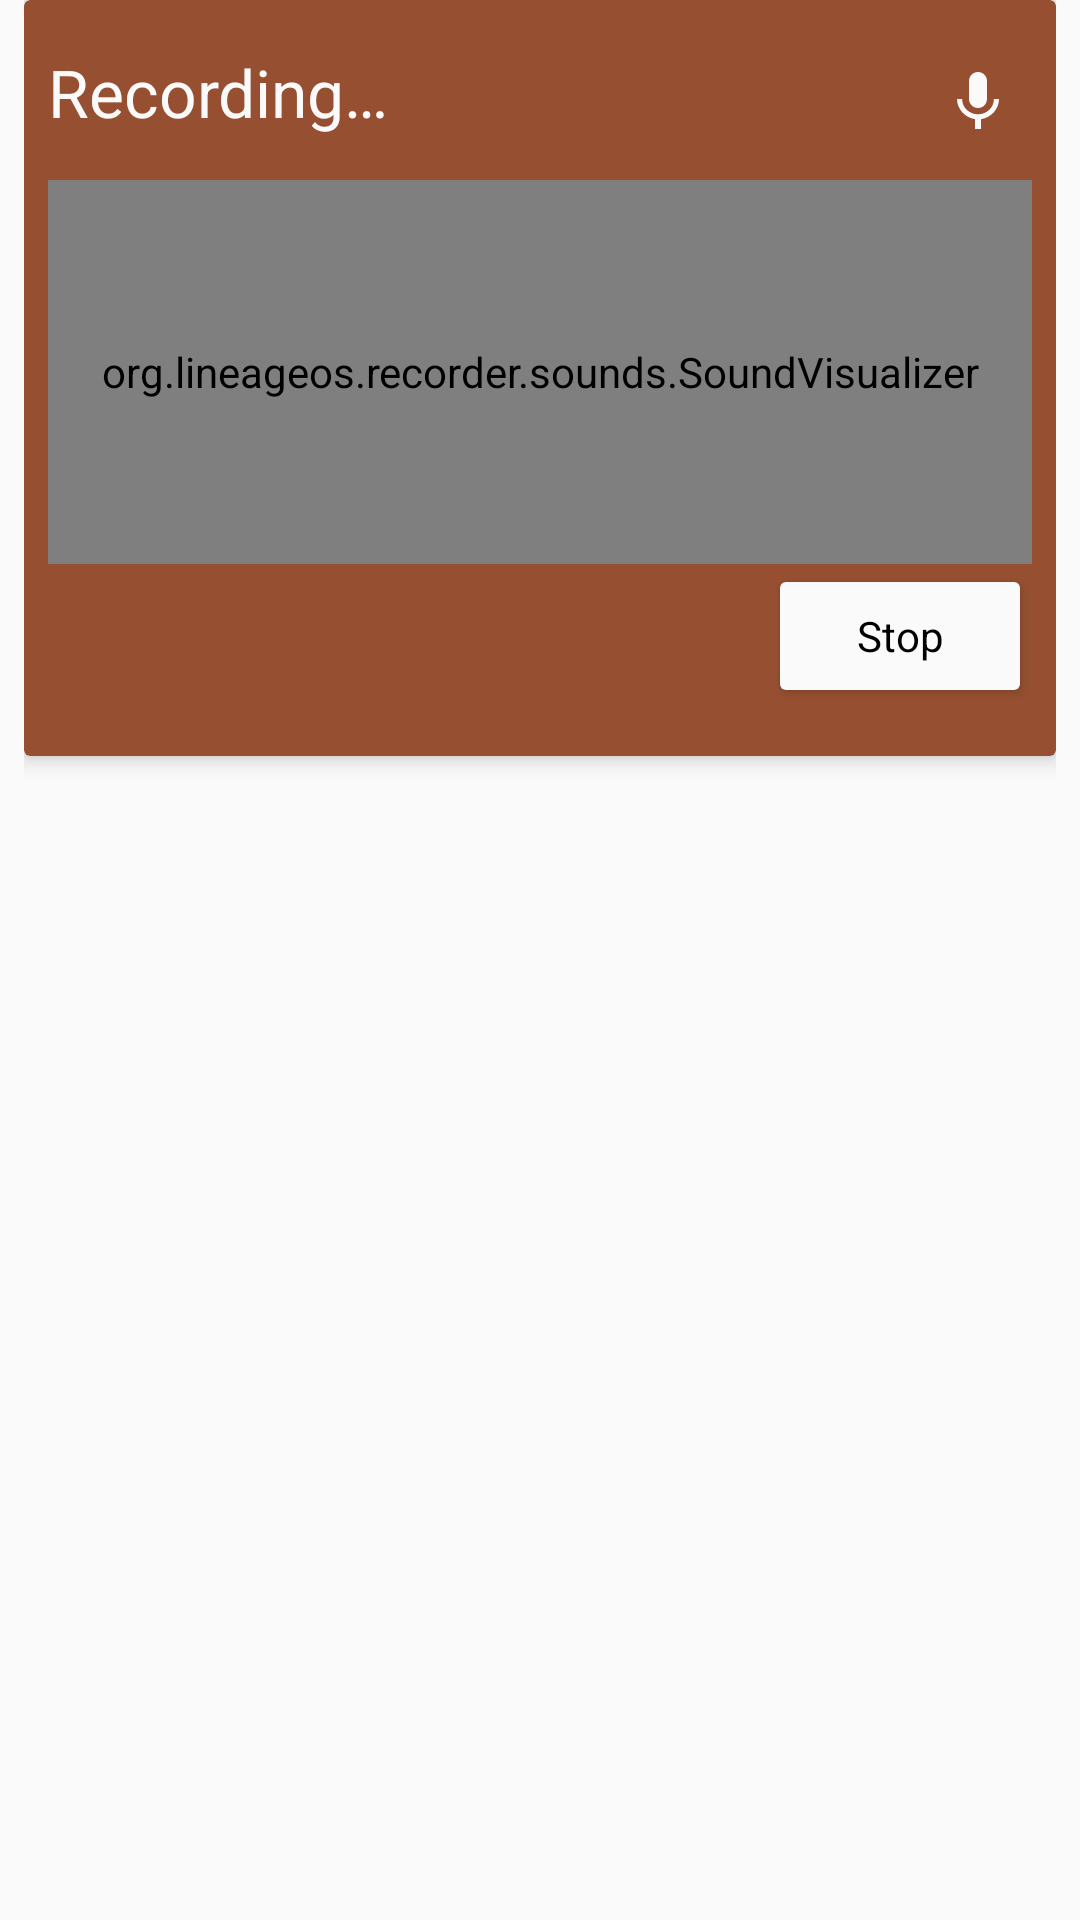

Icons on this 1080 x 1920 Android screen, each with its box as [x1, y1, x2, y2]:
sound record: [957, 72, 999, 129]
